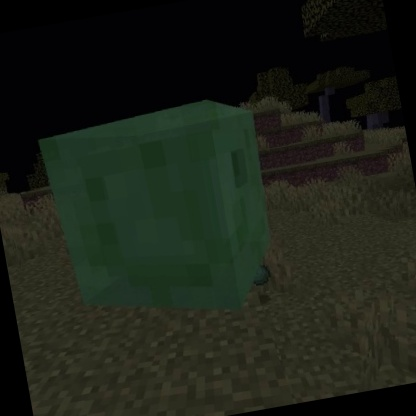slime: (31, 86, 291, 344)
